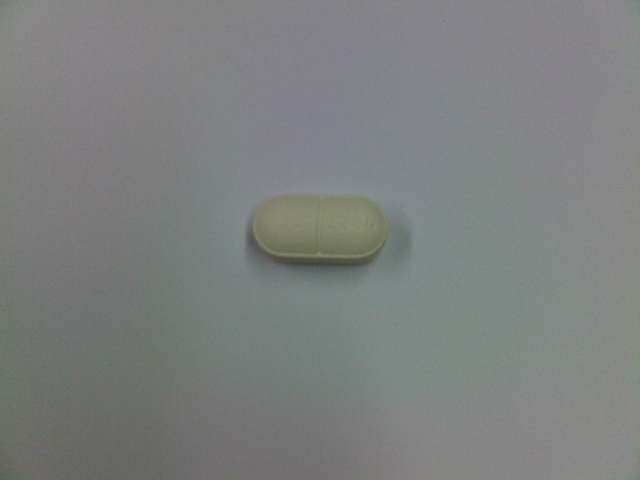|: (314, 184, 328, 271)
